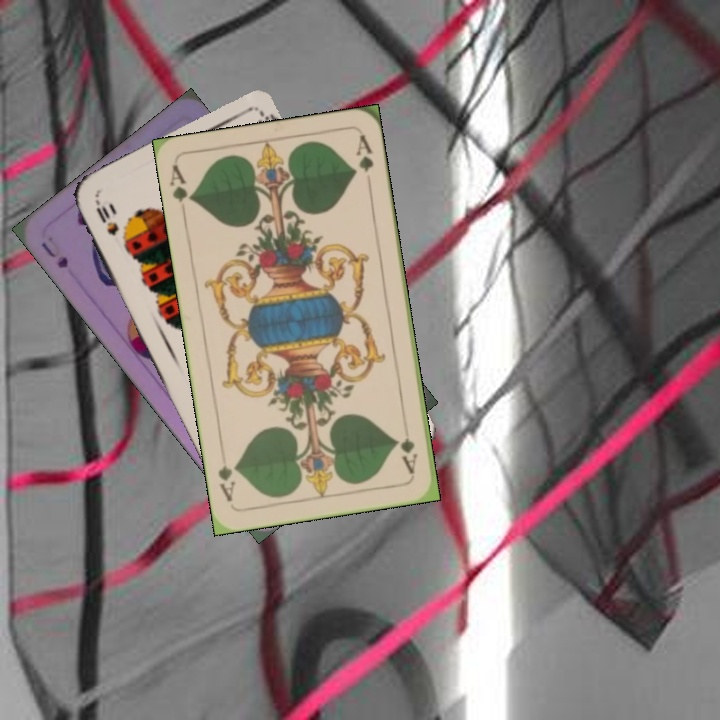GA: (166, 161, 196, 220), (396, 419, 421, 477)
S10: (90, 195, 122, 239)
SU: (37, 238, 71, 271)
